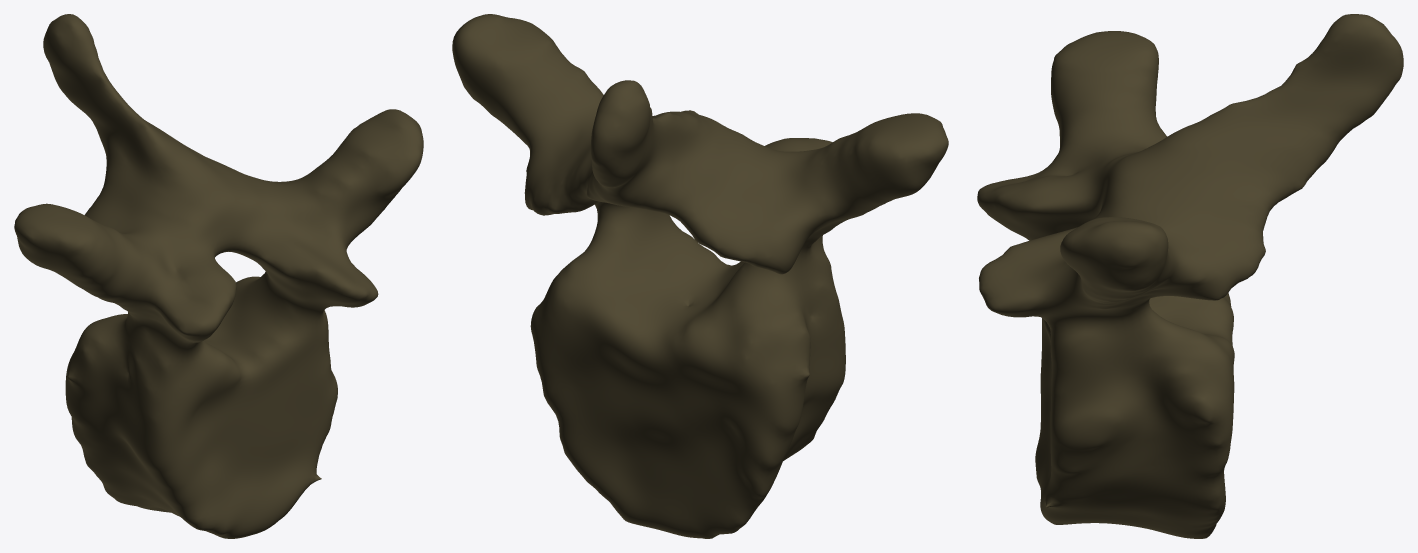
Rendered from T8 vertebra.obj.
3 views of the same model, side by side, from view 1: azimuth 30°, elevation 25°; view 2: azimuth 150°, elevation 25°; view 3: azimuth 270°, elevation 25° (orthographic). The views are drawn at different scales.
Parts seen in each view (by area): view 1: grp1; view 2: grp1; view 3: grp1.
Part boxes in pixels (left/top/right/bottom): grp1: left=14, top=14, right=423, bottom=538; grp1: left=452, top=14, right=948, bottom=538; grp1: left=977, top=14, right=1403, bottom=538.
Bounding box in the file's own units: 68.3 × 71.25 × 56.01.
